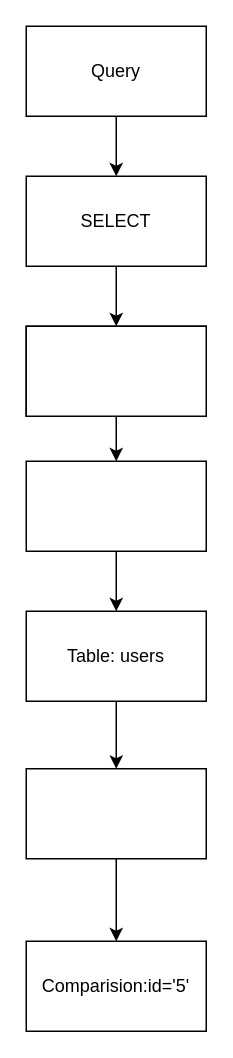
Image size: 233x1058. Some labels were removed from this diagram. Each missing label, with the centre of its shape:
"FROM" belongs at point (115, 505).
"Select List:*" belongs at point (115, 370).
"WHERE" belongs at point (115, 813).
